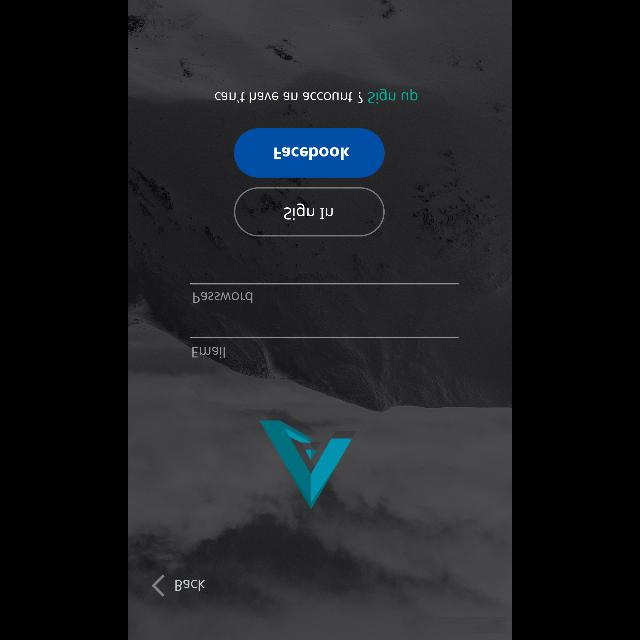backgroundimage: (128, 1, 512, 640)
icon: (151, 574, 165, 596)
image: (260, 420, 352, 510)
input: (190, 336, 460, 358), (190, 283, 458, 303)
text: (215, 88, 417, 104), (194, 292, 252, 304), (192, 346, 225, 358), (176, 579, 206, 591)
textbutton: (233, 128, 384, 178), (233, 188, 384, 236)
